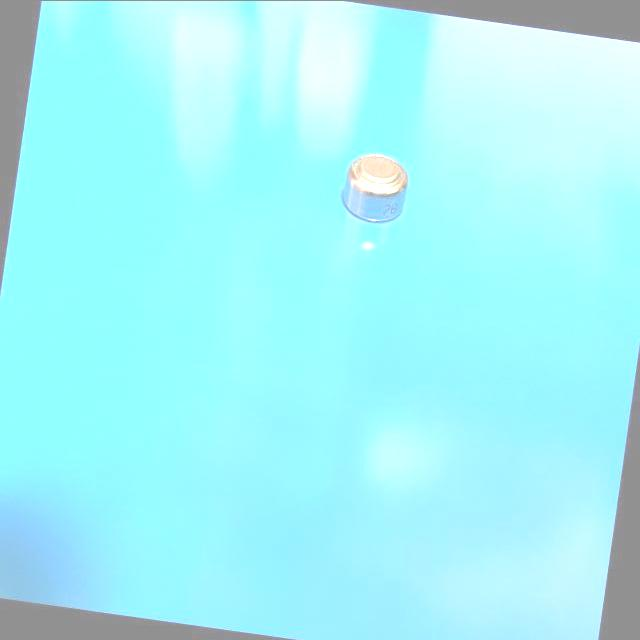COIN: (336, 148, 417, 231)
